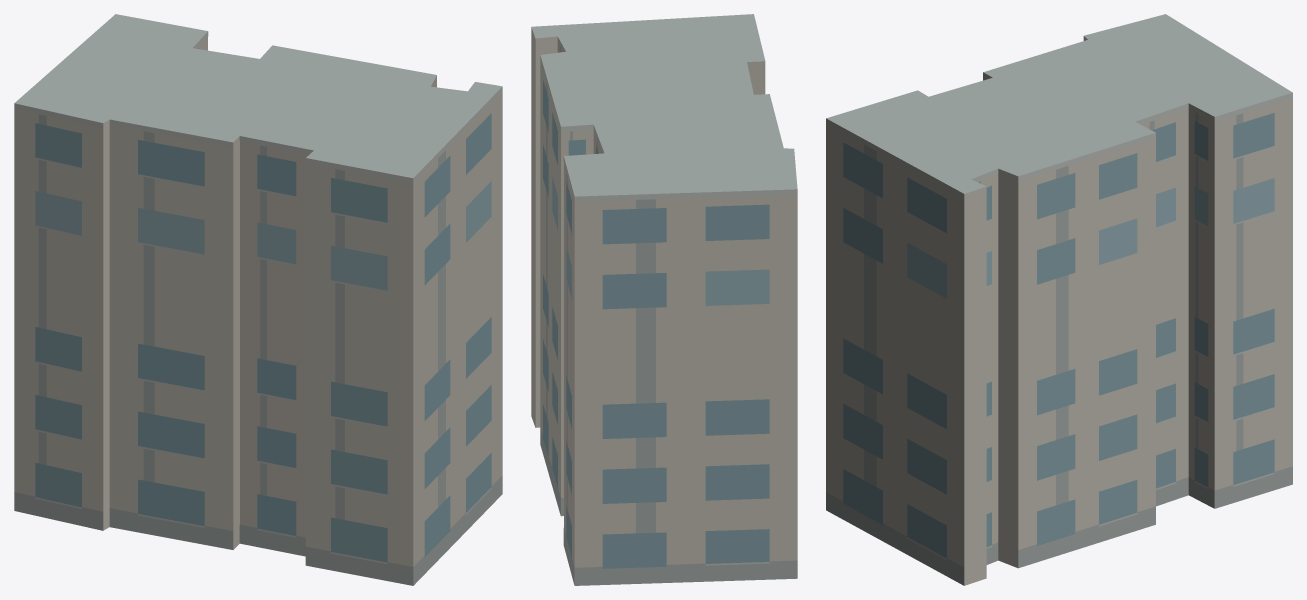
The model's file is survey-upis-32810733.glb.
The picture shows the model from 3 angles, left to right: view 1: azimuth 30°, elevation 25°; view 2: azimuth 150°, elevation 25°; view 3: azimuth 270°, elevation 25°; orthographic projection. The views are drawn at different scales.
Visible parts, largest first — view 1: survey-upis-32810733.tmp; view 2: survey-upis-32810733.tmp; view 3: survey-upis-32810733.tmp.
Part boxes in pixels (left/top/right/bottom): survey-upis-32810733.tmp: left=14, top=14, right=502, bottom=585; survey-upis-32810733.tmp: left=531, top=14, right=797, bottom=585; survey-upis-32810733.tmp: left=826, top=14, right=1292, bottom=585.
Bounding box in the file's own units: 17.63 × 17.9 × 19.33.
